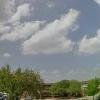Tree: (44, 72, 97, 100)
